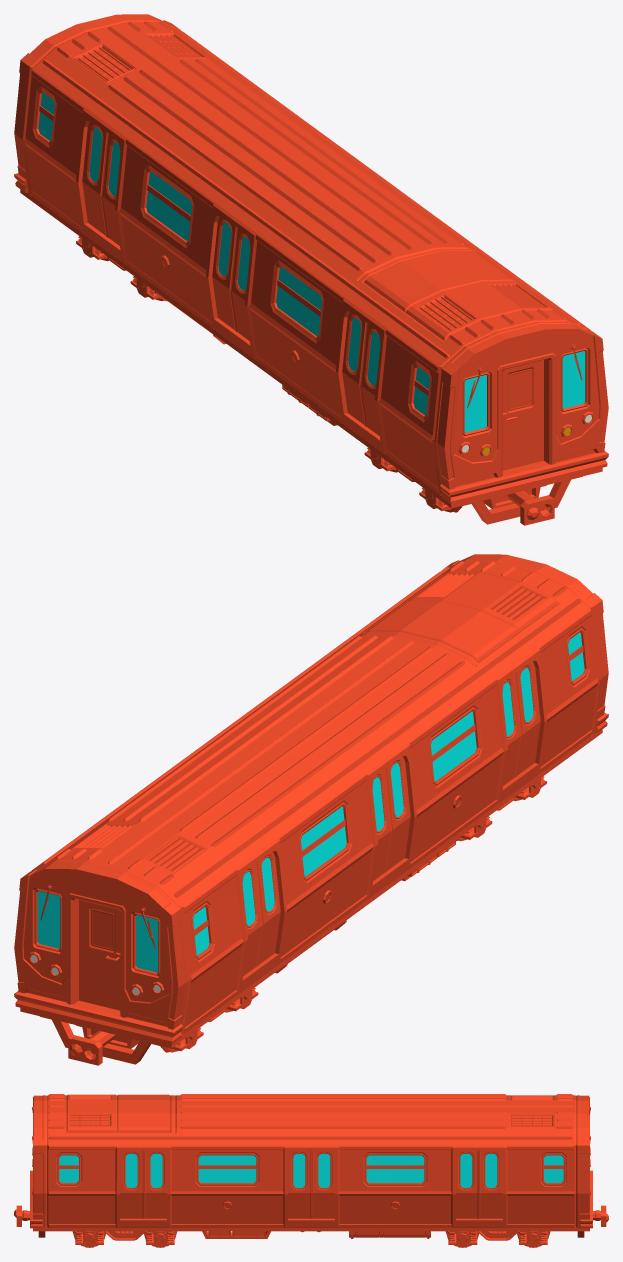
The model's file is SM_Train_Overground_Graffited_City.fbx.
3 views of the same model, one above another, from view 1: azimuth 30°, elevation 25°; view 2: azimuth 150°, elevation 25°; view 3: azimuth 270°, elevation 25° (orthographic). The views are drawn at different scales.
Visible parts, largest first — view 1: SM_Train_Overground_Graffited_City_Base, SM_Train_Overground_Graffited_City_Joint_F, SM_Train_Overground_Graffited_City_Chassis_F; view 2: SM_Train_Overground_Graffited_City_Base, SM_Train_Overground_Graffited_City_Joint_B, SM_Train_Overground_Graffited_City_Chassis_B, SM_Train_Overground_Graffited_City_Chassis_F; view 3: SM_Train_Overground_Graffited_City_Base, SM_Train_Overground_Graffited_City_Chassis_B, SM_Train_Overground_Graffited_City_Chassis_F, SM_Train_Overground_Graffited_City_Joint_B, SM_Train_Overground_Graffited_City_Joint_F.
Part boxes in pixels (<box>): SM_Train_Overground_Graffited_City_Base: <box>14,14,608,524</box>; SM_Train_Overground_Graffited_City_Joint_F: <box>507,491,554,525</box>; SM_Train_Overground_Graffited_City_Chassis_F: <box>364,447,546,511</box>; SM_Train_Overground_Graffited_City_Base: <box>14,554,608,1064</box>; SM_Train_Overground_Graffited_City_Joint_B: <box>68,1031,115,1065</box>; SM_Train_Overground_Graffited_City_Chassis_B: <box>76,987,258,1051</box>; SM_Train_Overground_Graffited_City_Chassis_F: <box>460,776,546,839</box>; SM_Train_Overground_Graffited_City_Base: <box>30,1094,592,1238</box>; SM_Train_Overground_Graffited_City_Chassis_B: <box>447,1231,548,1247</box>; SM_Train_Overground_Graffited_City_Chassis_F: <box>74,1231,175,1247</box>; SM_Train_Overground_Graffited_City_Joint_B: <box>593,1205,608,1226</box>; SM_Train_Overground_Graffited_City_Joint_F: <box>14,1205,29,1226</box>.
Size of the model in its own units: 3.59 by 4.1 by 16.86.
